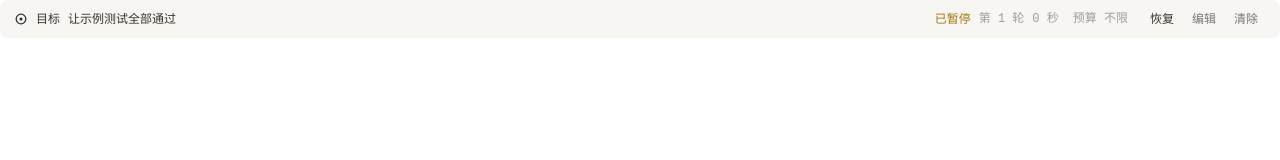
Test case: 编辑目标（票 04） › 点击编辑进入编辑态：编辑框预填目标全文（含多行），操作按钮让位
Click the button with test id "goal-edit". click: (1204,19)
box: 1184,9 -> 1224,29
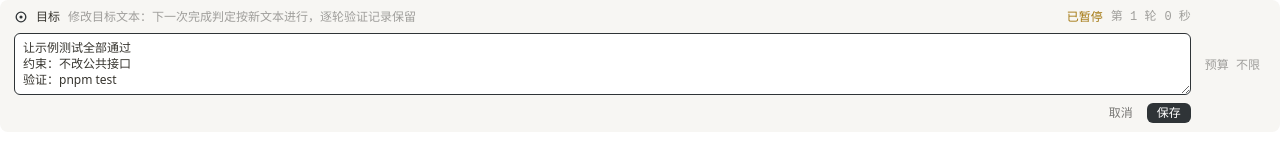
Check: the button with test id "goal-edit-save" is shown, box 1147,103 -> 1191,123
Check: the button with test id "goal-edit-cancel" is shown, box 1101,103 -> 1141,123
Check: the button with test id "goal-resume" is gone
